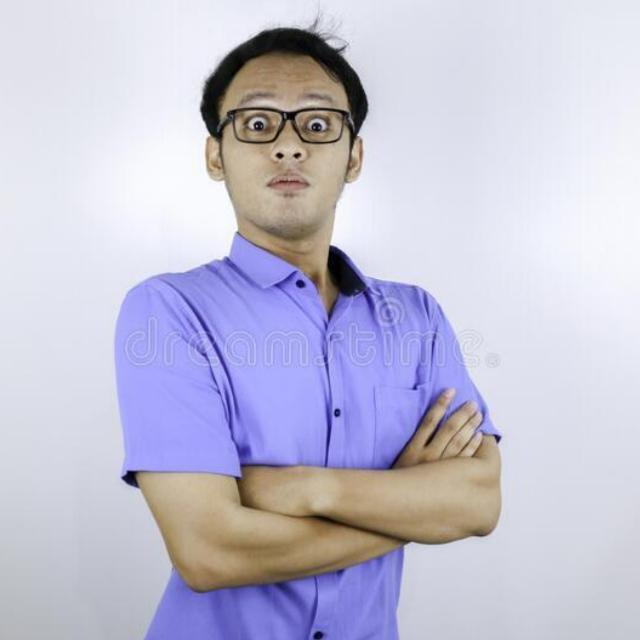surprised: (134, 42, 476, 310)
